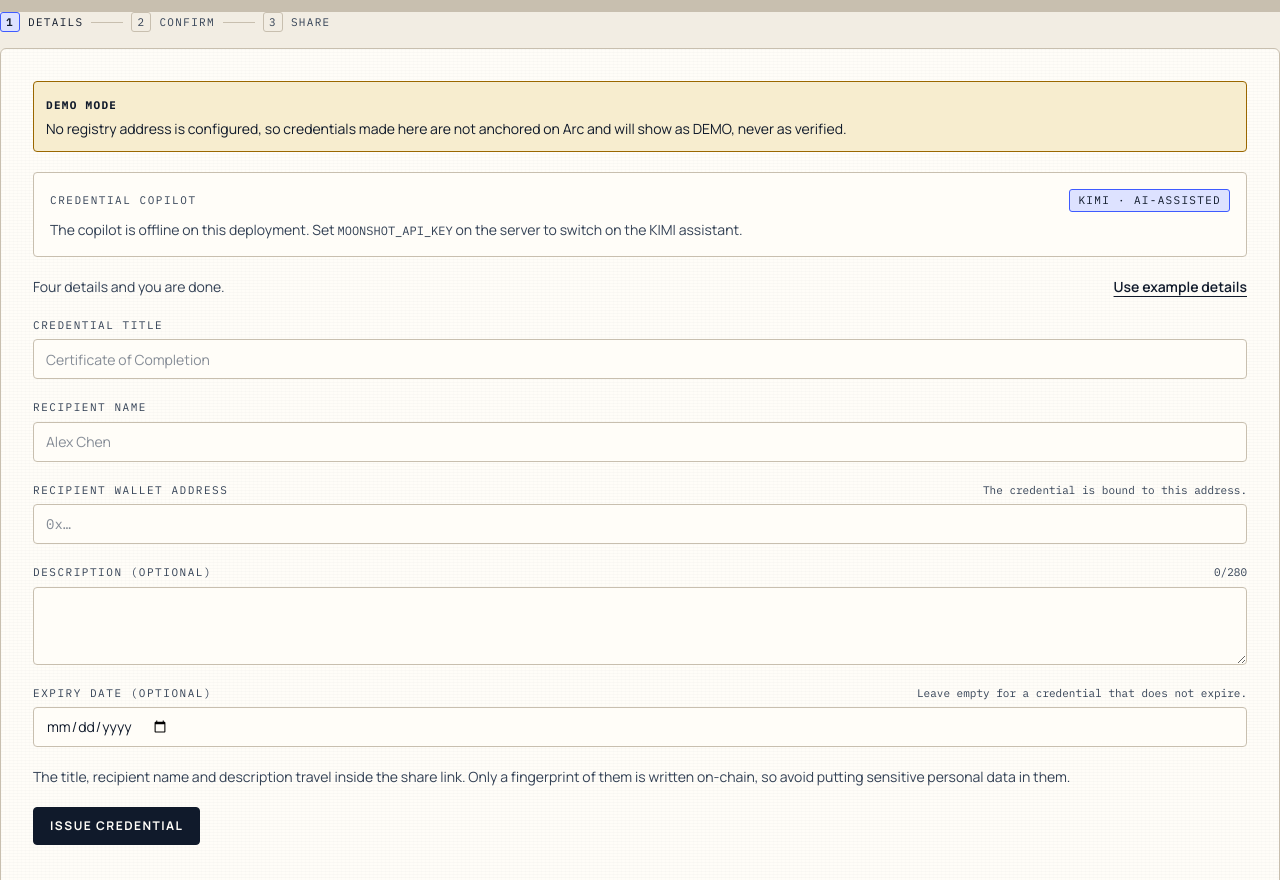
Test: issue flow in demo mode (no registry configured) › shows validation errors and sends nothing
The width and height of the screenshot is (1280, 880).
Expected: the text "Demo mode" is shown, [46, 98, 117, 112]
Step 1. Click the button "Issue credential" → {"x": 117, "y": 826}, box [33, 807, 200, 845]
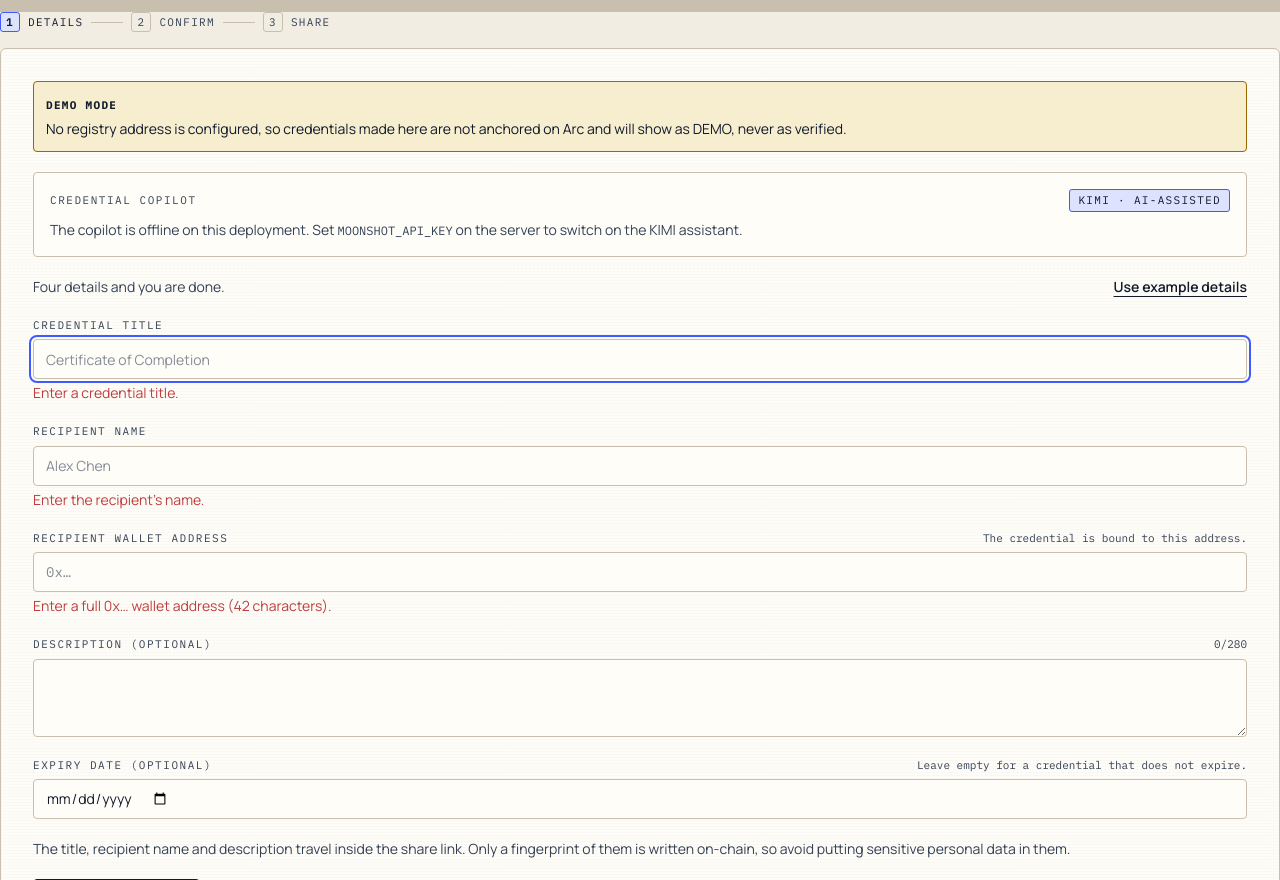
Now the text "Enter a credential title." is shown, box [33, 383, 179, 402]
Now the text "Enter a full 0x… wallet address (42 characters)." is shown, box [33, 596, 332, 615]
